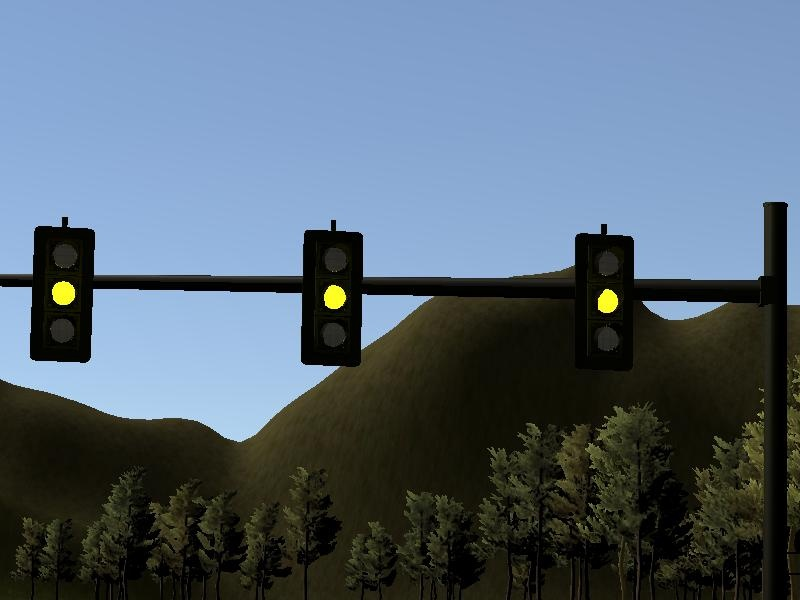yellow: (291, 210, 371, 378), (564, 212, 645, 377), (24, 211, 101, 374)
